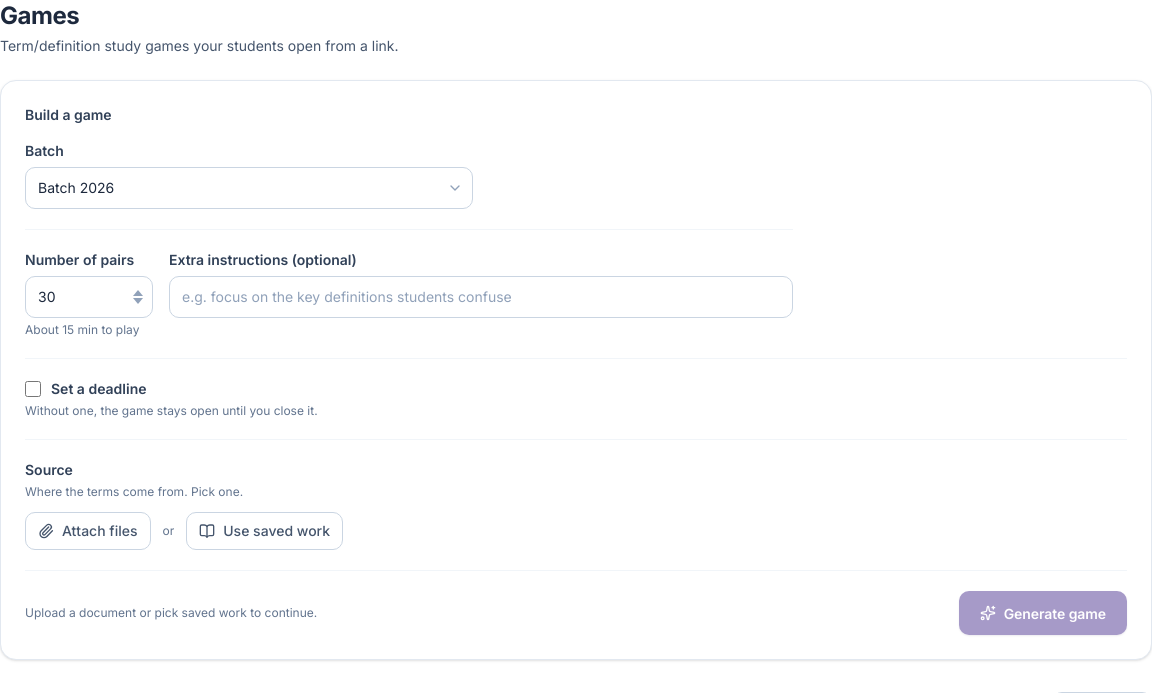
Test case: Games — source picker › offers saved lesson plans, labs, and assessments as input
Click the button "Use saved work" at (265, 531), box [186,512,343,550]
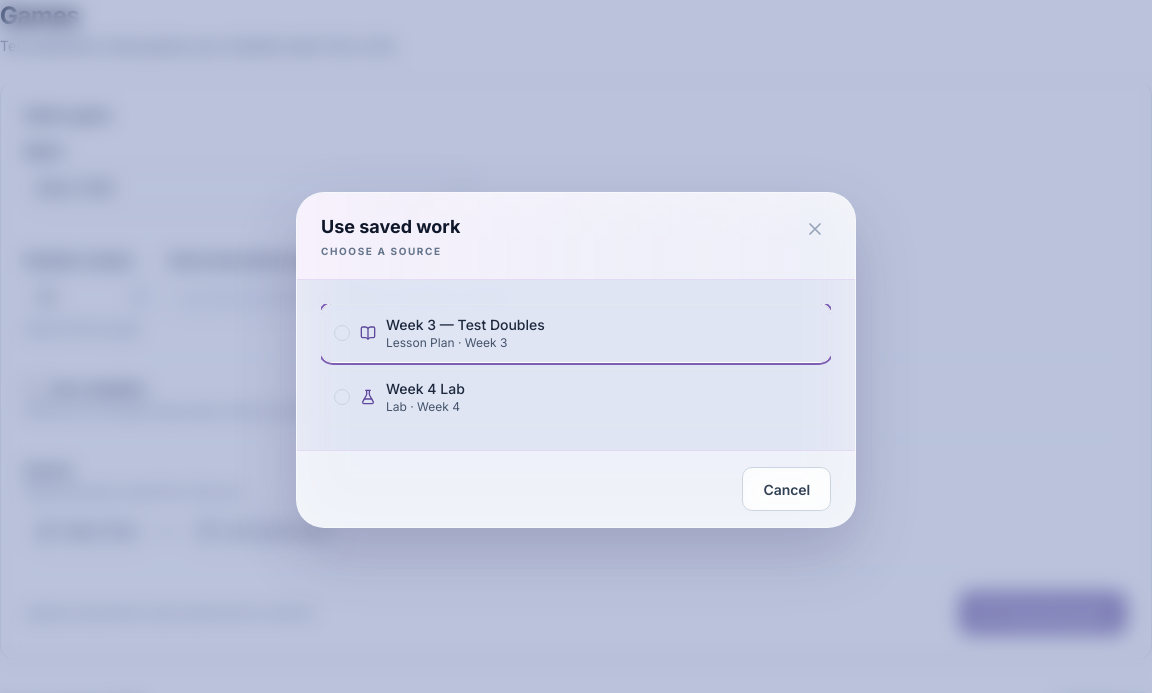
Expected: the text "Week 3 — Test Doubles" is shown, [386,316,545,333]
Expected: the text "Week 4 Lab" is shown, [386,380,465,397]
